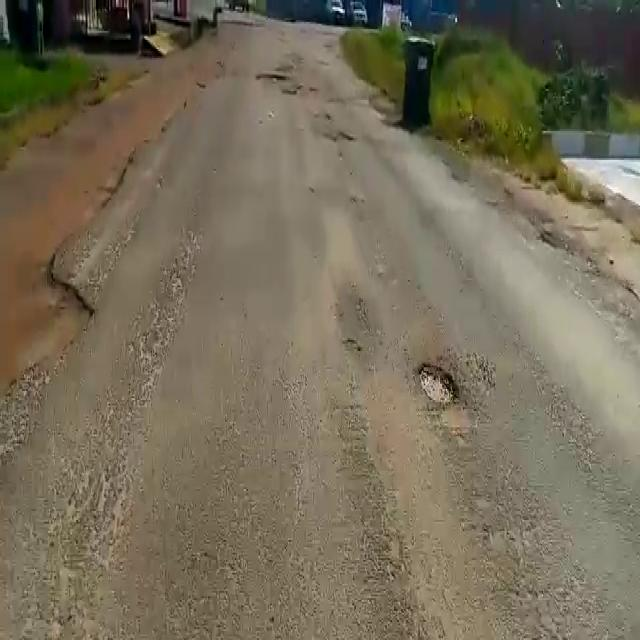Pothole: (414, 358, 460, 414), (331, 127, 354, 144)
